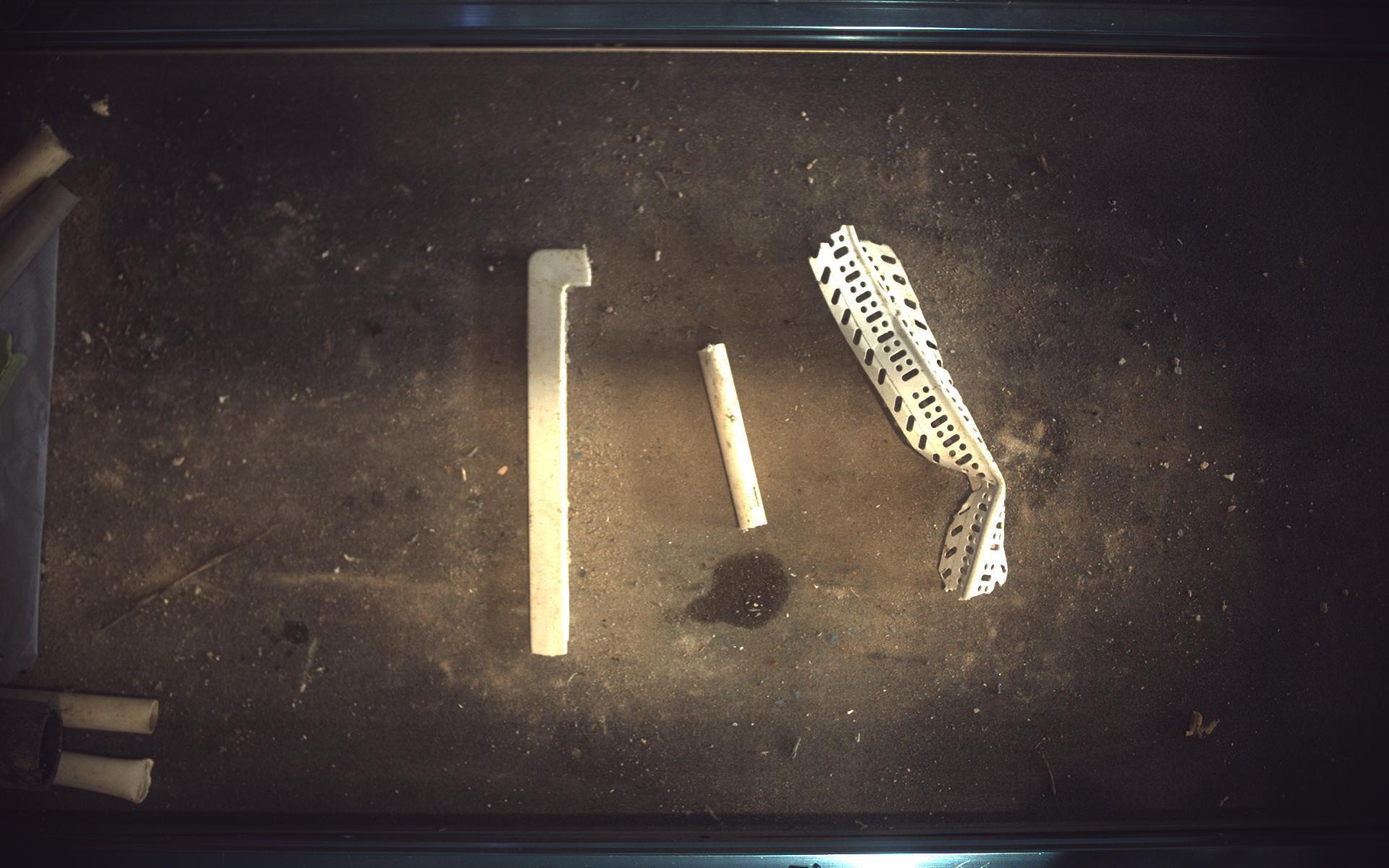pipes: (699, 344, 768, 531), (1, 176, 78, 298), (1, 689, 158, 736), (1, 123, 70, 218), (1, 699, 61, 792), (52, 753, 153, 805)
plastic: (812, 224, 1009, 601), (528, 248, 592, 658), (1, 331, 25, 404)
